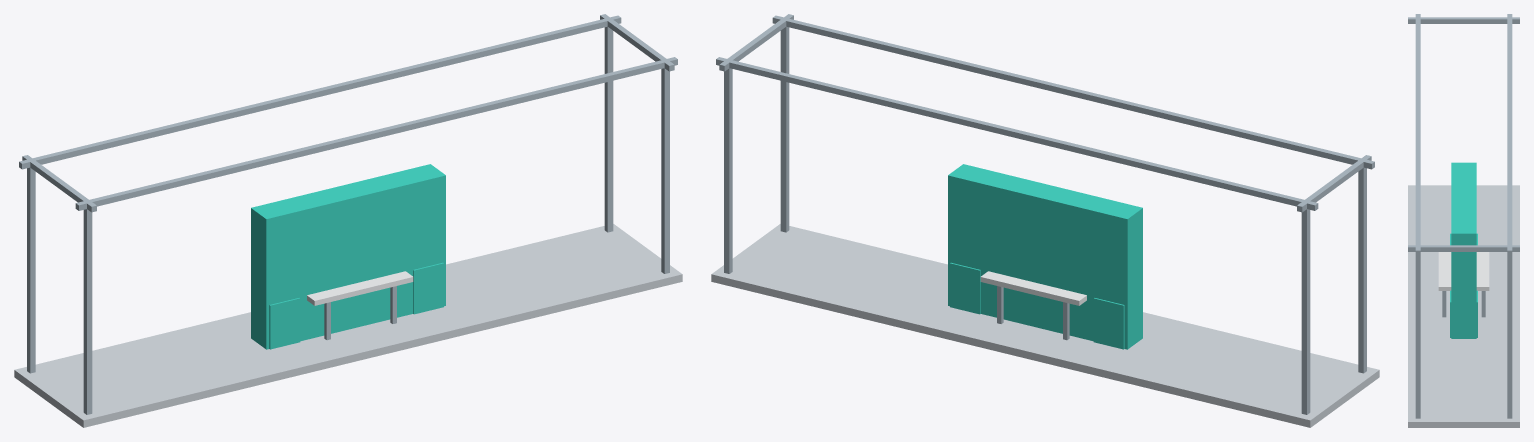
3 renders of one model, left to right at view 1: azimuth 30°, elevation 25°; view 2: azimuth 150°, elevation 25°; view 3: azimuth 270°, elevation 25°, orthographic. The views are drawn at different scales.
Parts seen in each view (by area): view 1: Exhibition Booth Concept; view 2: Exhibition Booth Concept; view 3: Exhibition Booth Concept.
Boxes of the visible parts, x1,y1,x2,y2 form: Exhibition Booth Concept: [14, 14, 682, 427]; Exhibition Booth Concept: [711, 14, 1379, 427]; Exhibition Booth Concept: [1408, 14, 1519, 427].
Bounding box in the file's own units: 10 × 3.49 × 2.
